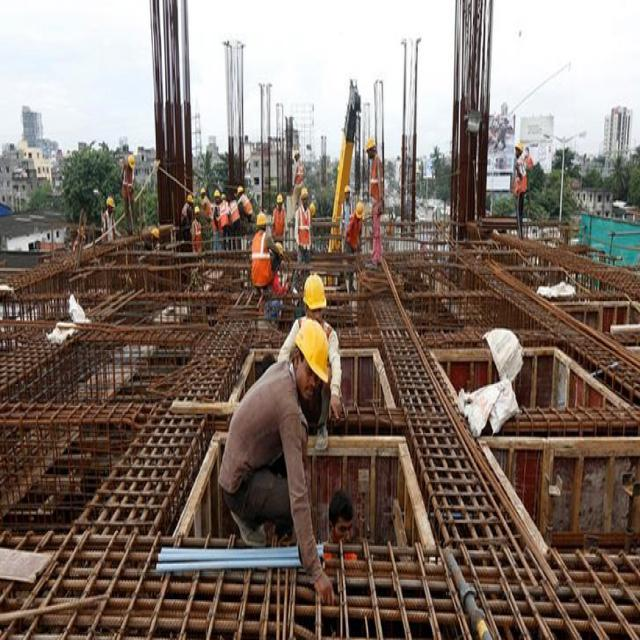Reflective-Jacket: (252, 230, 270, 287), (509, 162, 532, 197), (296, 207, 311, 245), (272, 208, 286, 237), (217, 201, 231, 228), (190, 221, 202, 245)
Safety-Helmet: (294, 319, 333, 385), (303, 271, 327, 312), (355, 200, 366, 221), (514, 135, 525, 154), (365, 135, 377, 152), (255, 210, 267, 227), (127, 153, 136, 170), (106, 193, 115, 210), (276, 192, 285, 206), (310, 201, 317, 218), (300, 187, 309, 200), (343, 184, 351, 196), (194, 206, 201, 217)
